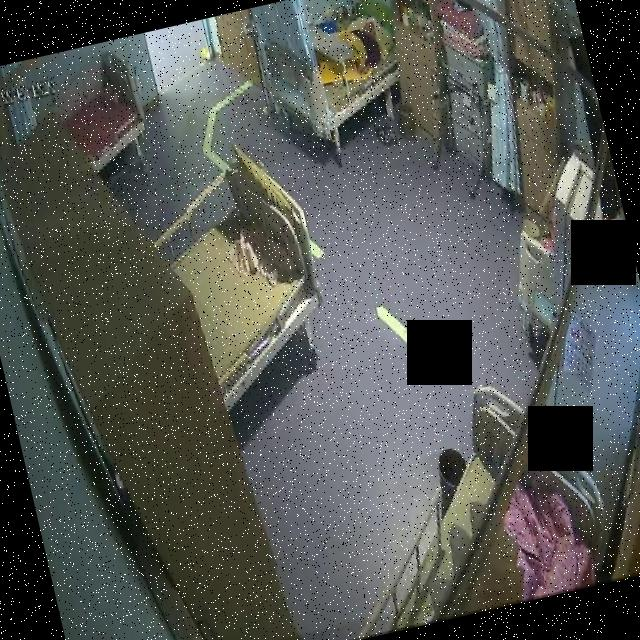bed: (336, 364, 622, 634), (147, 152, 339, 407), (254, 0, 407, 142), (50, 45, 156, 177)
lie: (306, 10, 388, 83)
patient: (335, 9, 387, 76)
